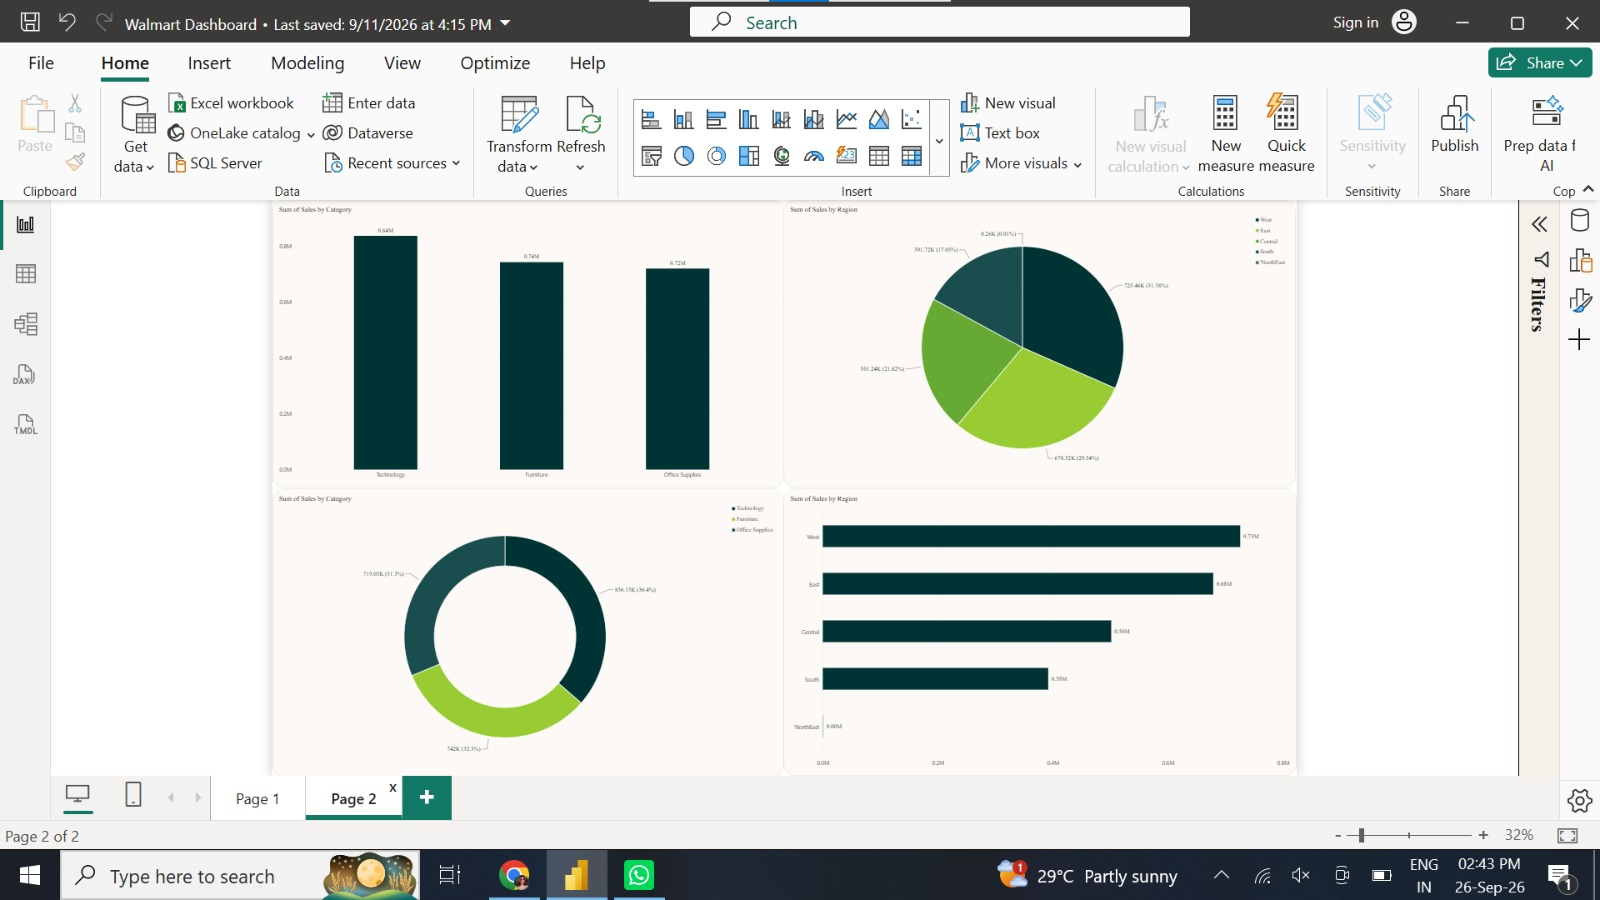

The dashboard page shown, as its layout file describes it:
{"tool":"powerbi","page":{"name":"Page 2","canvas":[2560,1440],"ordinal":1},"visuals":[{"type":"columnChart","fields":{"Category":["Orders.Category"],"Y":["Sum(Orders.Sales)"]},"box":[0,0,1280,719.5],"z":0},{"type":"donutChart","fields":{"Category":["Orders.Category"],"Y":["Sum(Orders.Sales)"]},"box":[0,721.4,1279,721.4],"z":1},{"type":"pieChart","fields":{"Category":["Orders.Region"],"Y":["Sum(Orders.Sales)"]},"box":[1280,0,1280,719.5],"z":2},{"type":"clusteredBarChart","fields":{"Category":["Orders.Region"],"Y":["Sum(Orders.Sales)"]},"box":[1279,721.4,1282.1,718.2],"z":3}]}

Visuals, with their boxes on the page's 2560x1440 design canvas (x1, y1, x2, y2). These are canvas units, not pixel positions in the 1600x900 screenshot, which may show the page scaled, cropped or inside an application window:
columnChart - Orders.Category x Sum(Orders.Sales): <box>0,0,1280,720</box>
donutChart - Orders.Category x Sum(Orders.Sales): <box>0,721,1279,1443</box>
pieChart - Orders.Region x Sum(Orders.Sales): <box>1280,0,2560,720</box>
clusteredBarChart - Orders.Region x Sum(Orders.Sales): <box>1279,721,2561,1440</box>
